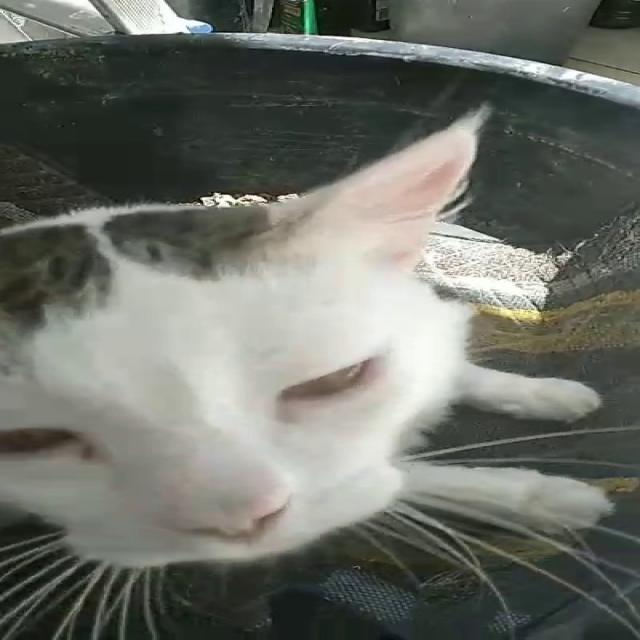Simba: (9, 77, 636, 615)
